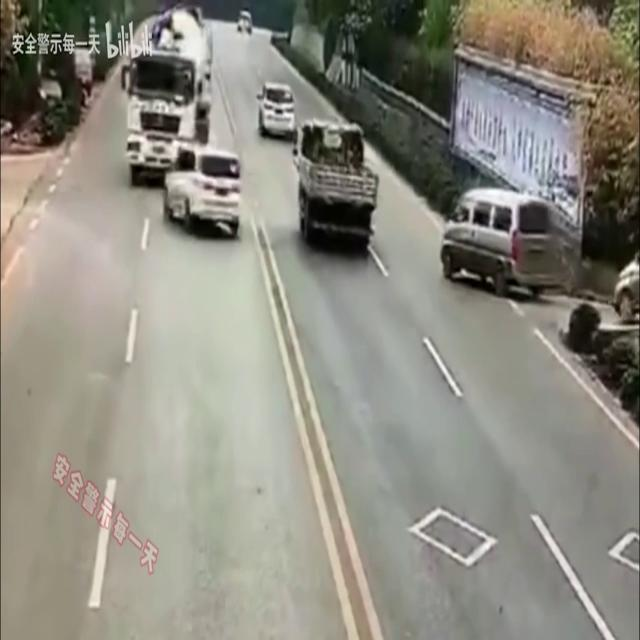multiple_accident: (131, 13, 244, 250)
normal: (459, 179, 544, 290), (293, 124, 394, 216), (250, 73, 306, 159)
